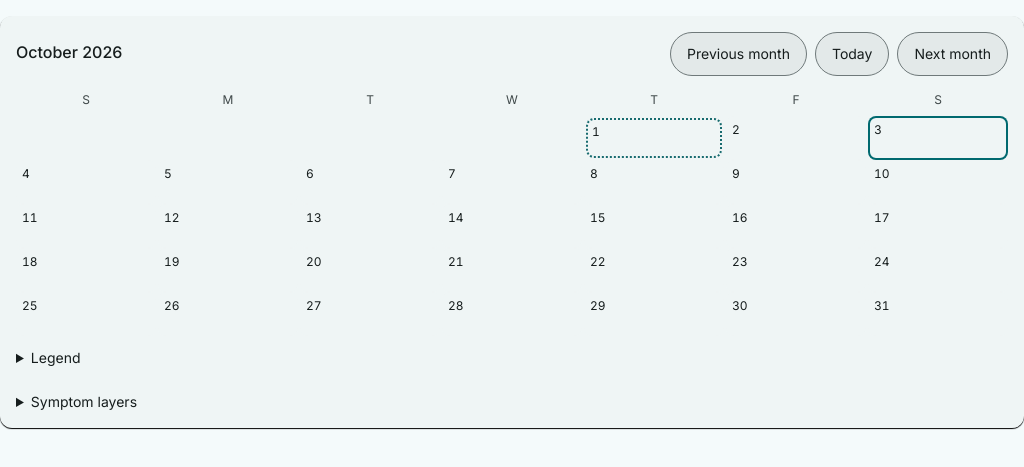
ProfileHomeCalendar › the last-period date given at setup › a month whose only content is the mark is not "No entries this month"
The width and height of the screenshot is (1024, 467).
# The month before has nothing at all, and still says so.
Click the button "Previous month" at (738, 54), box [670, 32, 807, 76]
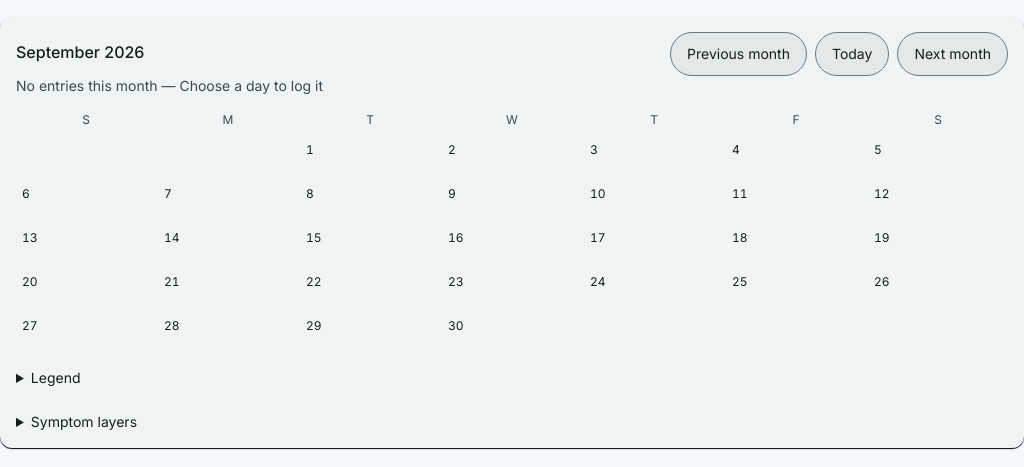
Result: the text "No entries this month — Choose a day to log it" is shown at [16, 77, 323, 94]
